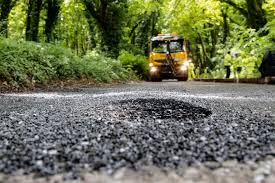pothole: (2, 126, 272, 165), (118, 96, 222, 126)
